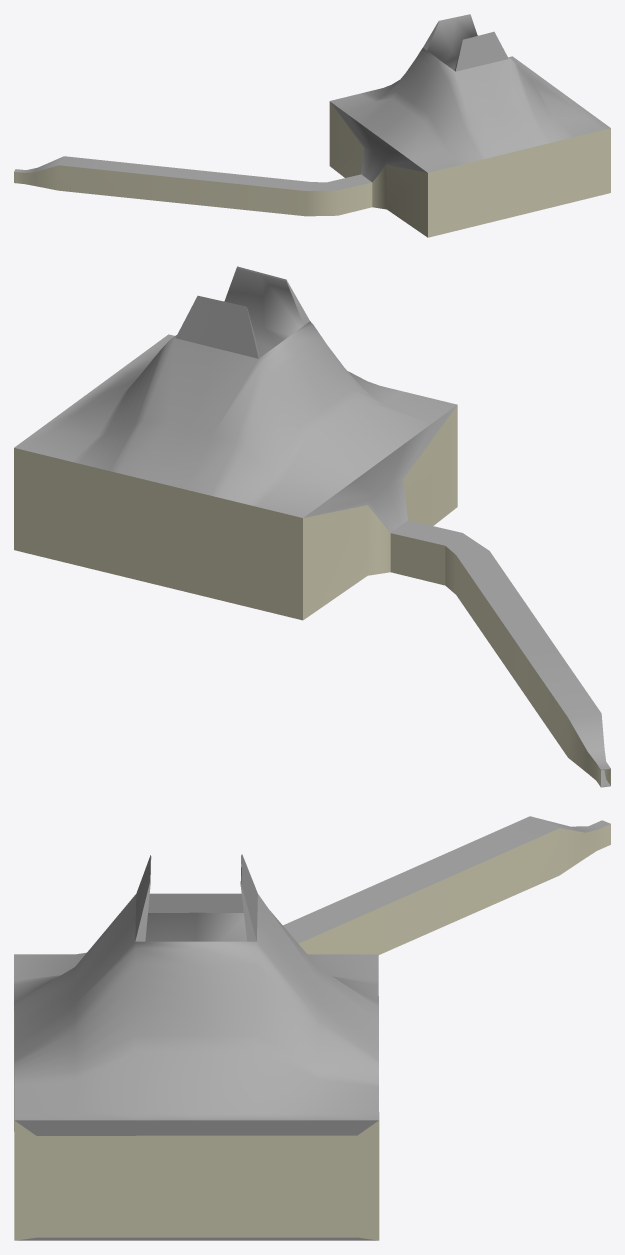
Rendered from NewRoom2.fbx.
The picture shows the model from 3 angles, top to bottom: view 1: azimuth 30°, elevation 25°; view 2: azimuth 150°, elevation 25°; view 3: azimuth 270°, elevation 25°; orthographic projection. The views are drawn at different scales.
Parts seen in each view (by area): view 1: Room_2; view 2: Room_2; view 3: Room_2.
Boxes of the visible parts, box(x1,y1,x2,y2) form: Room_2: box(14, 14, 610, 237); Room_2: box(14, 266, 610, 787); Room_2: box(14, 816, 610, 1240).
Bounding box in the file's own units: 1.41 × 0.4747 × 0.896.
